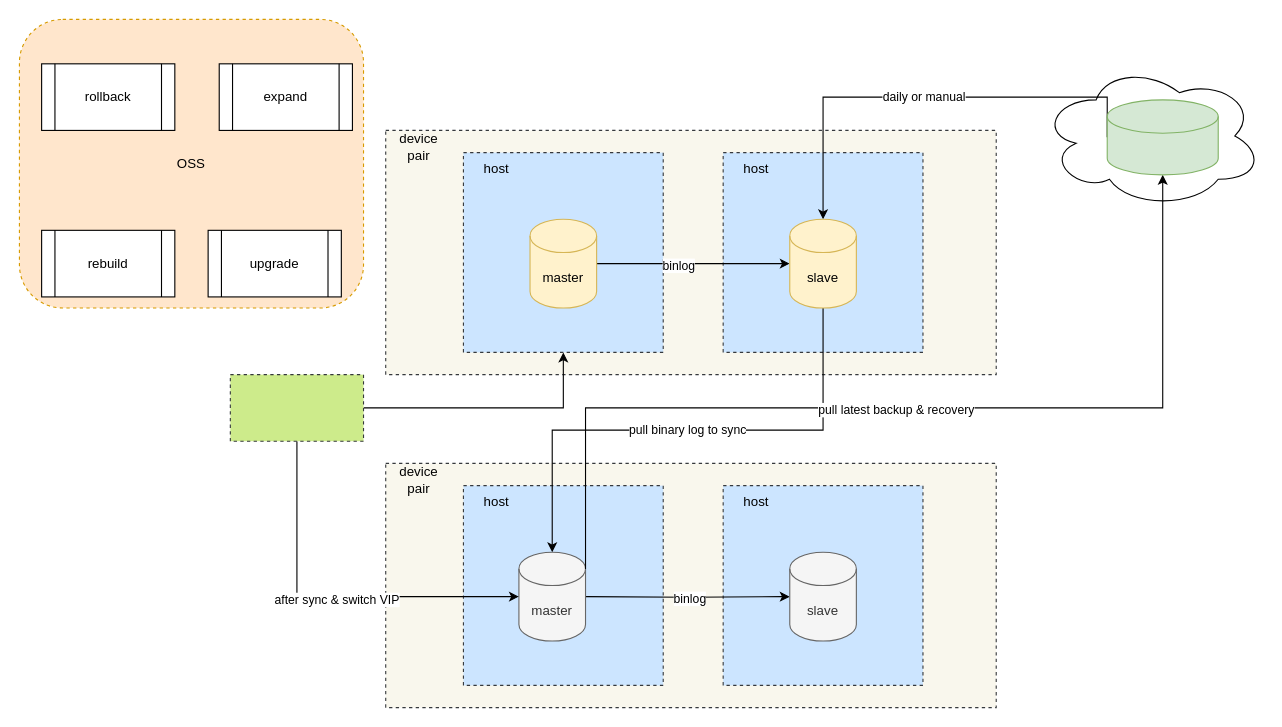
Some shapes in this 1282 by 727 pixel diagram are drawn without their labels. The centre of each missing label's shape, as x and y in pixels:
backup: the point at 1162,137
TGW VIP: the point at 296,407
